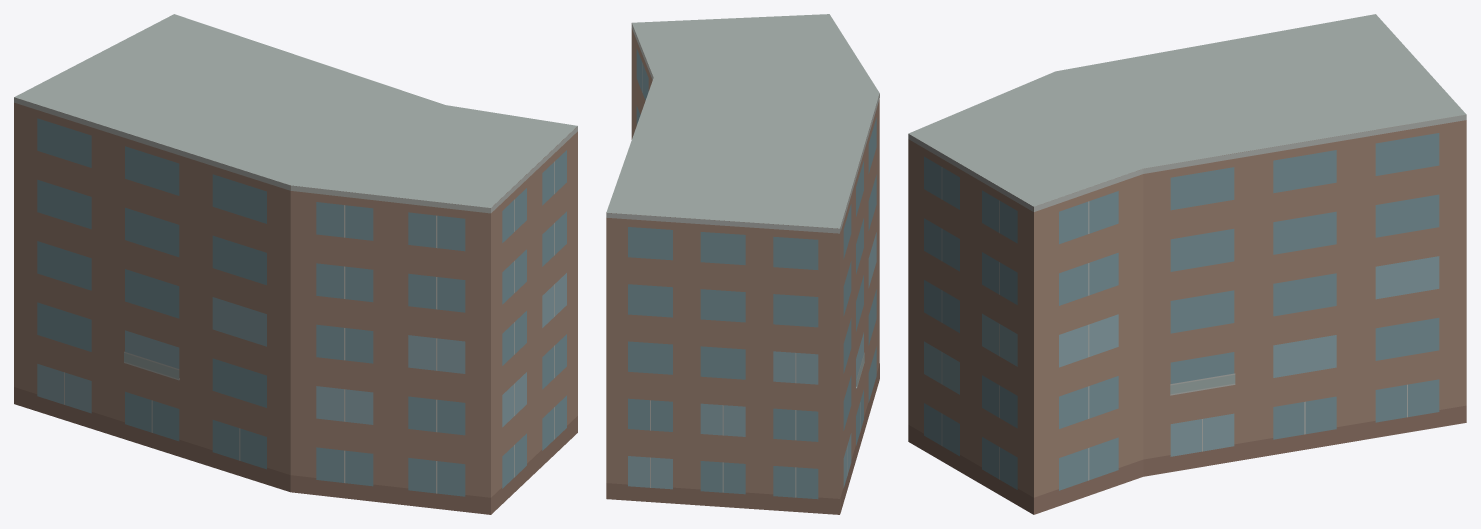
File: survey-upis-32815274.glb
3 renders of one model, left to right at view 1: azimuth 30°, elevation 25°; view 2: azimuth 150°, elevation 25°; view 3: azimuth 270°, elevation 25°, orthographic. The views are drawn at different scales.
Parts seen in each view (by area): view 1: survey-upis-32815274.tmp; view 2: survey-upis-32815274.tmp; view 3: survey-upis-32815274.tmp.
Part boxes in pixels (x1,y1,x2,y2): survey-upis-32815274.tmp: (14, 14, 577, 514); survey-upis-32815274.tmp: (606, 14, 879, 514); survey-upis-32815274.tmp: (908, 14, 1466, 514).
Bounding box in the file's own units: 18.66 × 13.9 × 22.84.
